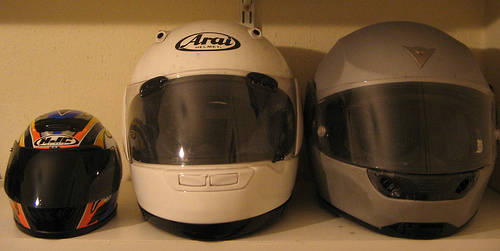helmet: (305, 37, 488, 223), (131, 25, 292, 220), (12, 116, 126, 220)
